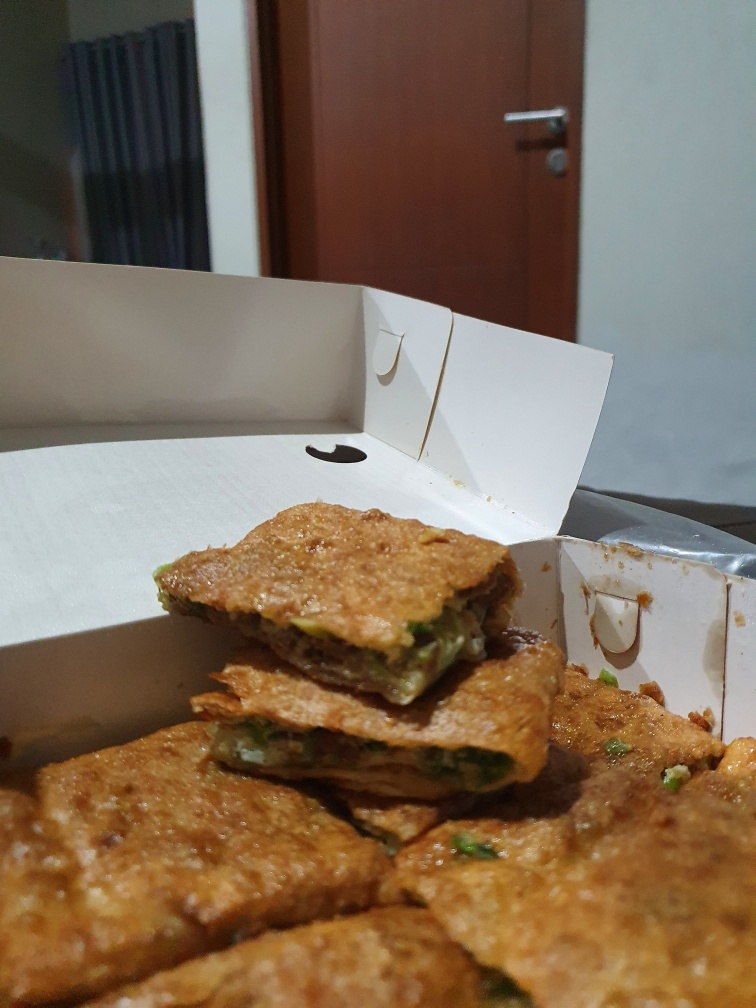martabak telor: (151, 491, 523, 684), (67, 709, 390, 902), (201, 622, 574, 775)
